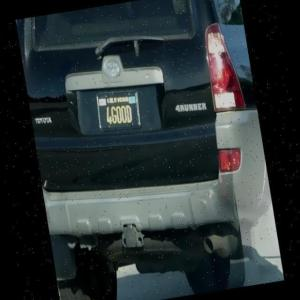Plate: (93, 84, 144, 133)
